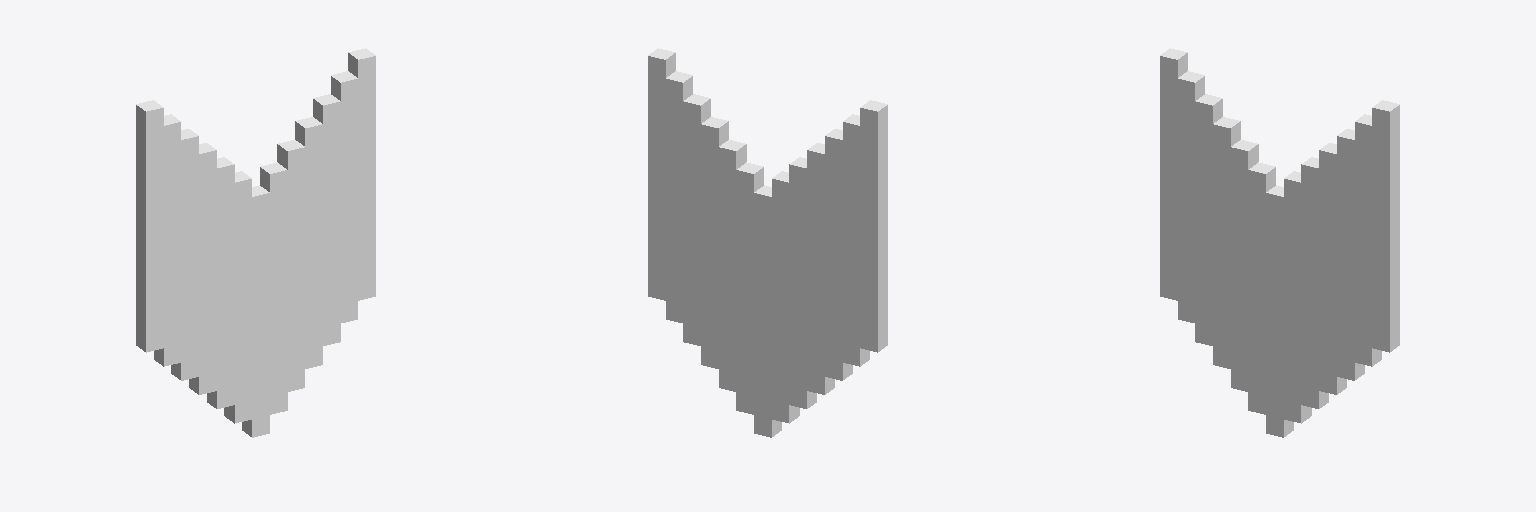
File: BeginnerMark.obj
The picture shows the model from 3 angles: view 1: azimuth 30°, elevation 25°; view 2: azimuth 150°, elevation 25°; view 3: azimuth 330°, elevation 25°; orthographic projection.
Visible parts, largest first — view 1: object 1; view 2: object 1; view 3: object 1.
Boxes of the visible parts, <box> form: object 1: <box>136,48,375,437</box>; object 1: <box>648,48,887,437</box>; object 1: <box>1160,48,1399,437</box>.
Bounding box in the file's own units: 1.3 × 1.9 × 0.1.